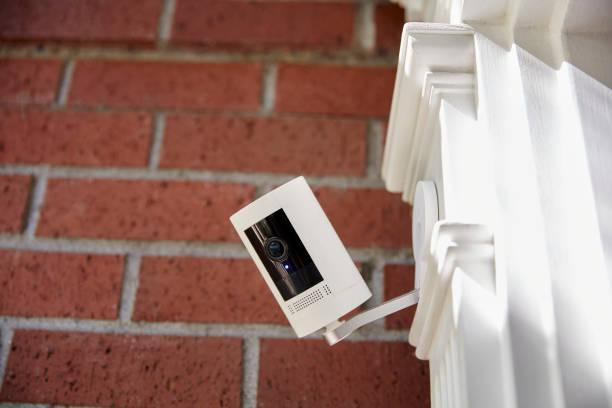camera: (206, 164, 388, 341)
